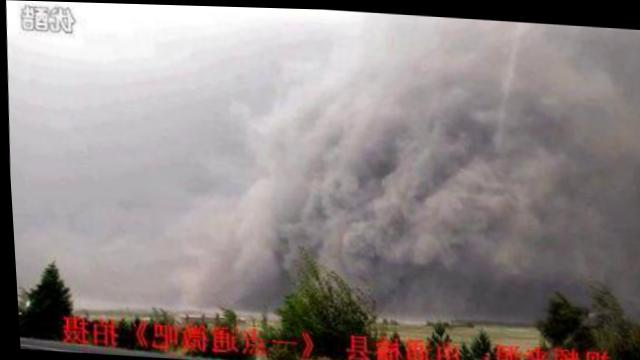smoke: (384, 24, 532, 278), (286, 31, 404, 278), (523, 29, 639, 270), (191, 178, 293, 308)
